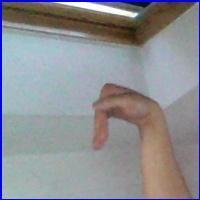del: (89, 79, 168, 158)
